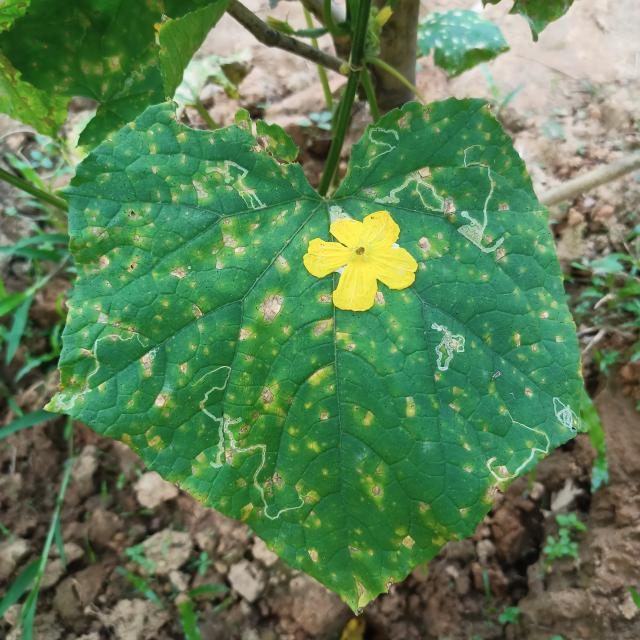disease_cucumber: (68, 118, 576, 564)
